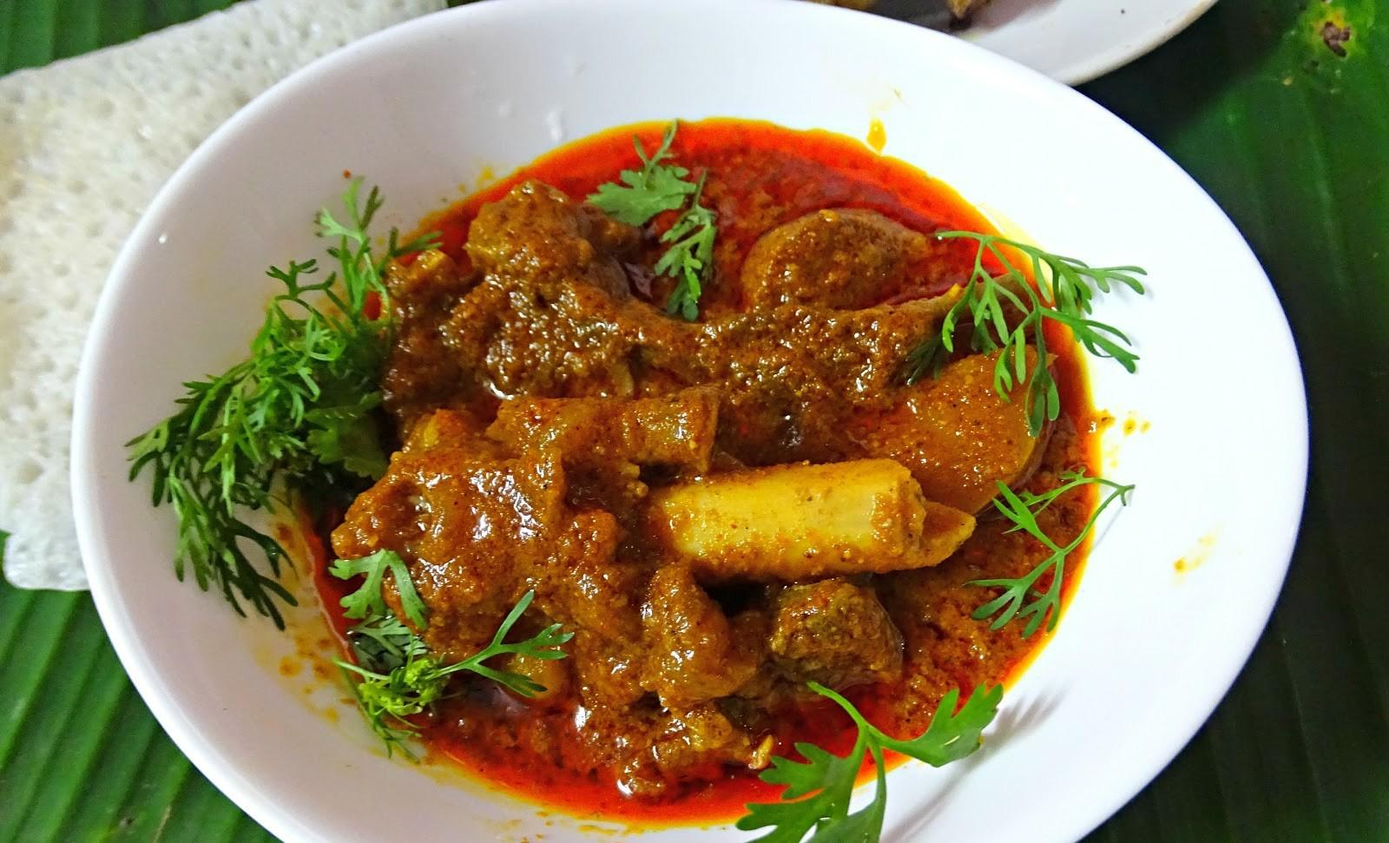MuttonCurry: (289, 126, 1083, 806)
